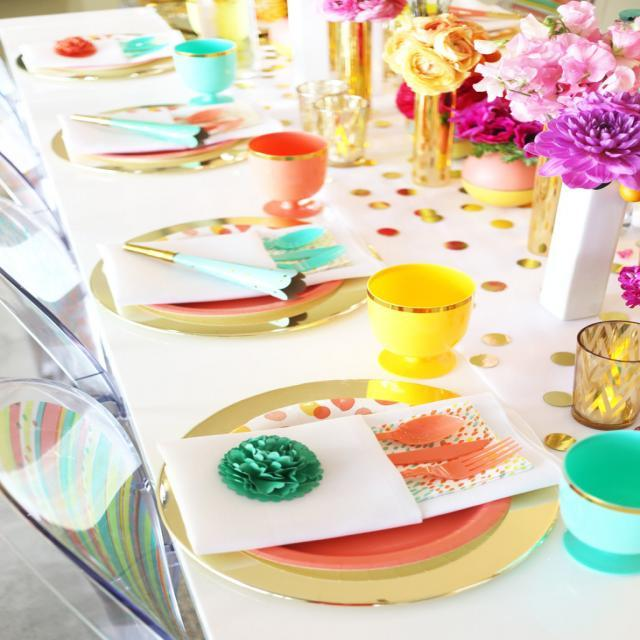ceramic plate: (165, 372, 563, 619), (100, 174, 388, 368), (47, 64, 248, 192)
